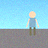person: (26, 11, 39, 35)
